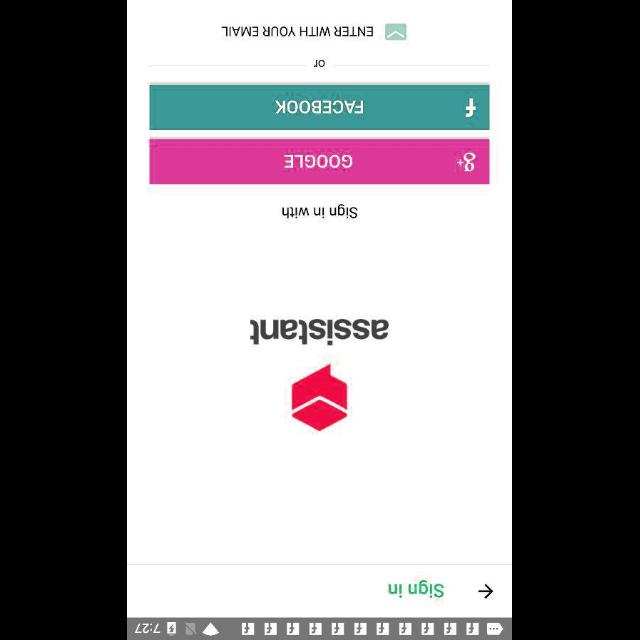icon: (385, 24, 407, 40), (478, 584, 494, 598)
image: (292, 362, 348, 432)
text: (250, 318, 390, 346), (222, 26, 374, 36), (282, 202, 358, 220), (389, 578, 445, 598), (314, 60, 326, 68)
textbutton: (150, 84, 490, 130), (150, 139, 490, 185)
toolbar: (128, 564, 512, 616)
uppertaskbar: (128, 617, 512, 639)
